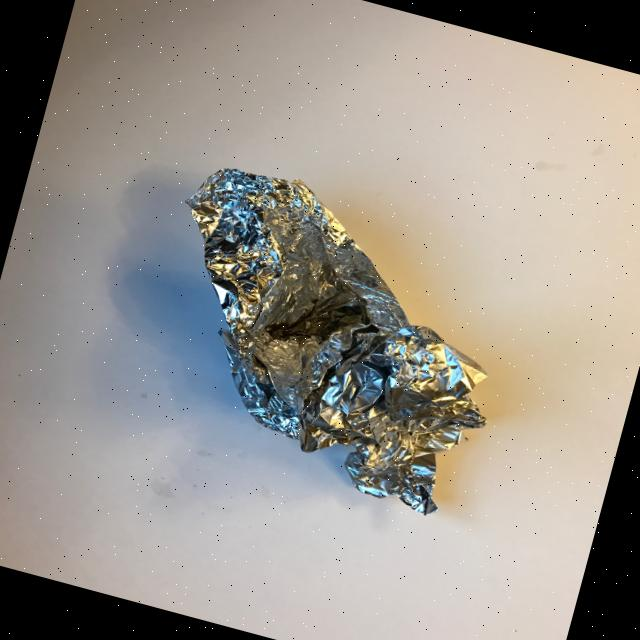metal: (122, 151, 534, 524)
